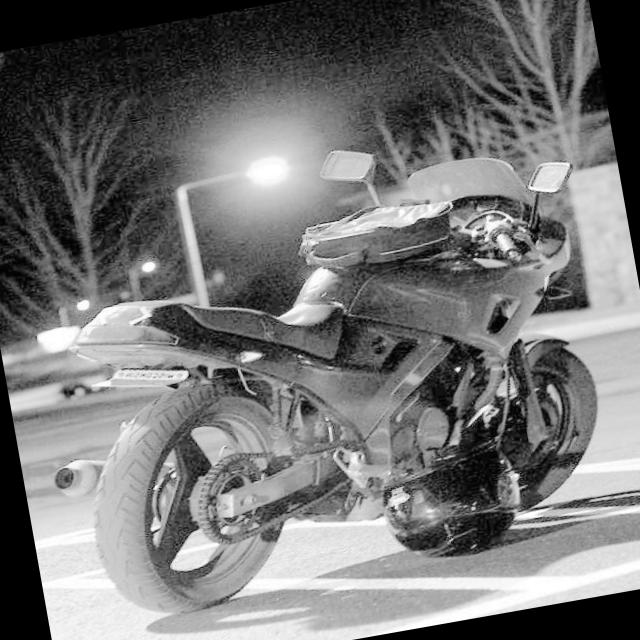Motorcycle: (13, 89, 640, 636)
